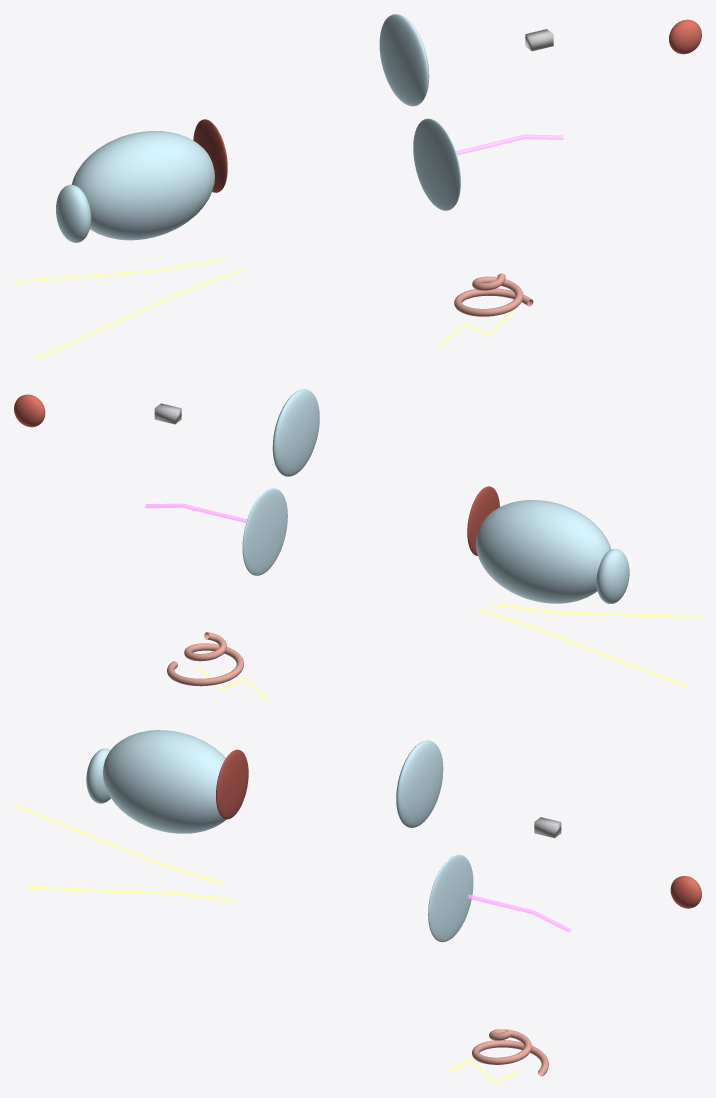
Rendered from optique_vision_audition_premium.glb.
3 renders of one model, top to bottom at view 1: azimuth 30°, elevation 25°; view 2: azimuth 150°, elevation 25°; view 3: azimuth 330°, elevation 25°, orthographic. The views are drawn at different scales.
Parts seen in each view (by area): view 1: ORGAN_oeil_coupe_transparente, DEVICE_lentille_correctrice_convergente, DEVICE_lentille_correctrice_divergente, ORGAN_cochlee_spirale, ORGAN_cornee, ORGAN_retine, TISSUE_cible_laser, RAY_optique_rayons_convergents_bas, RAY_optique_rayons_convergents_haut, RAY_faisceau_laser_medical; view 2: ORGAN_oeil_coupe_transparente, DEVICE_lentille_correctrice_convergente, DEVICE_lentille_correctrice_divergente, ORGAN_cochlee_spirale, ORGAN_cornee, ORGAN_retine, TISSUE_cible_laser, RAY_optique_rayons_convergents_bas, RAY_optique_rayons_convergents_haut, RAY_faisceau_laser_medical; view 3: ORGAN_oeil_coupe_transparente, DEVICE_lentille_correctrice_convergente, DEVICE_lentille_correctrice_divergente, ORGAN_retine, ORGAN_cochlee_spirale, ORGAN_cornee, TISSUE_cible_laser, RAY_optique_rayons_convergents_haut, RAY_optique_rayons_convergents_bas.
Part boxes in pixels (box(x1,y1,x2,y2)): ORGAN_oeil_coupe_transparente: box(71, 131, 214, 240); DEVICE_lentille_correctrice_convergente: box(379, 14, 429, 106); DEVICE_lentille_correctrice_divergente: box(413, 118, 460, 210); ORGAN_cochlee_spirale: box(454, 273, 533, 316); ORGAN_cornee: box(56, 184, 91, 242); ORGAN_retine: box(193, 119, 227, 192); TISSUE_cible_laser: box(669, 19, 701, 54); RAY_optique_rayons_convergents_bas: box(34, 268, 244, 360); RAY_optique_rayons_convergents_haut: box(14, 258, 224, 282); RAY_faisceau_laser_medical: box(456, 134, 564, 155); ORGAN_oeil_coupe_transparente: box(475, 500, 611, 603); DEVICE_lentille_correctrice_convergente: box(272, 389, 319, 476); DEVICE_lentille_correctrice_divergente: box(242, 488, 287, 575); ORGAN_cochlee_spirale: box(167, 632, 243, 686); ORGAN_cornee: box(596, 549, 629, 603); ORGAN_retine: box(467, 486, 499, 555); TISSUE_cible_laser: box(14, 394, 45, 427); RAY_optique_rayons_convergents_bas: box(478, 608, 687, 687); RAY_optique_rayons_convergents_haut: box(492, 602, 701, 618); RAY_faisceau_laser_medical: box(144, 503, 246, 522); ORGAN_oeil_coupe_transparente: box(103, 730, 226, 833); DEVICE_lentille_correctrice_convergente: box(396, 740, 443, 827); DEVICE_lentille_correctrice_divergente: box(428, 854, 473, 942); ORGAN_retine: box(216, 749, 248, 819); ORGAN_cochlee_spirale: box(472, 1029, 548, 1076); ORGAN_cornee: box(86, 748, 110, 803); TISSUE_cible_laser: box(670, 876, 701, 908); RAY_optique_rayons_convergents_haut: box(14, 804, 223, 884); RAY_optique_rayons_convergents_bas: box(28, 885, 237, 902).
Size of the model in its own units: 7.24 by 3.3 by 0.88.
